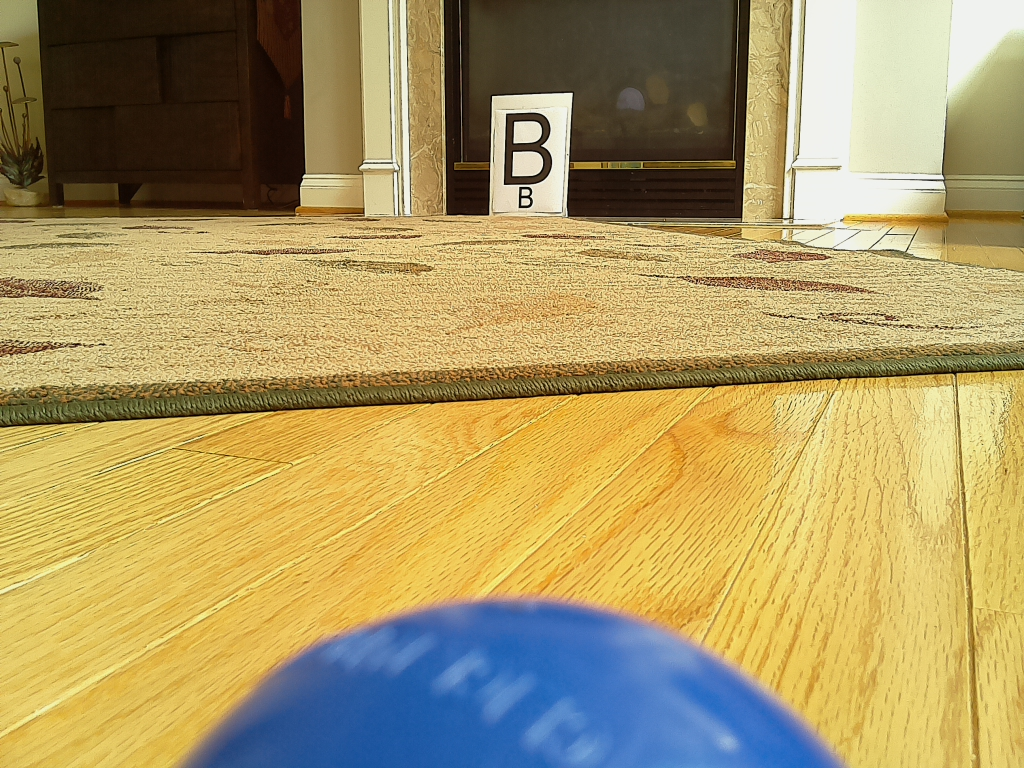letter: (503, 112, 552, 185)
